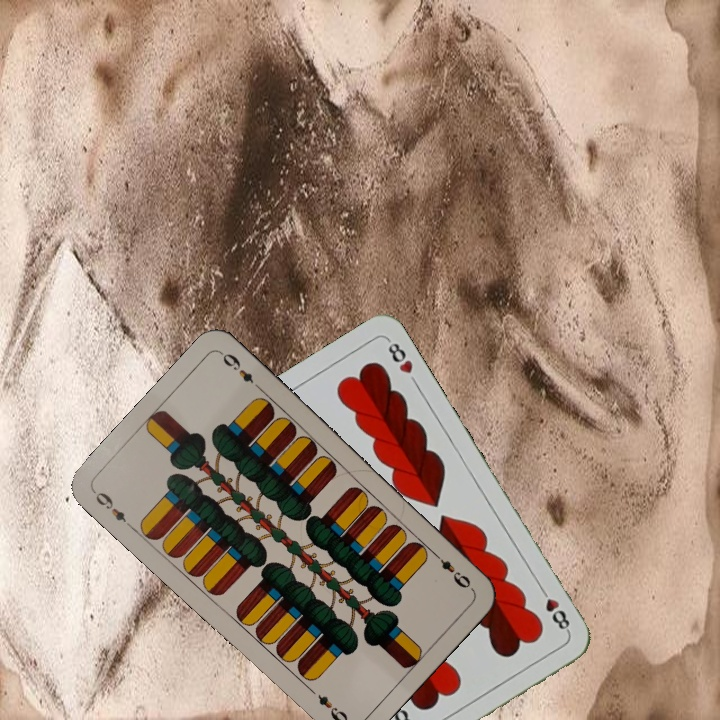E9: (428, 547, 475, 593), (89, 487, 136, 533)
H8: (535, 582, 573, 636)
